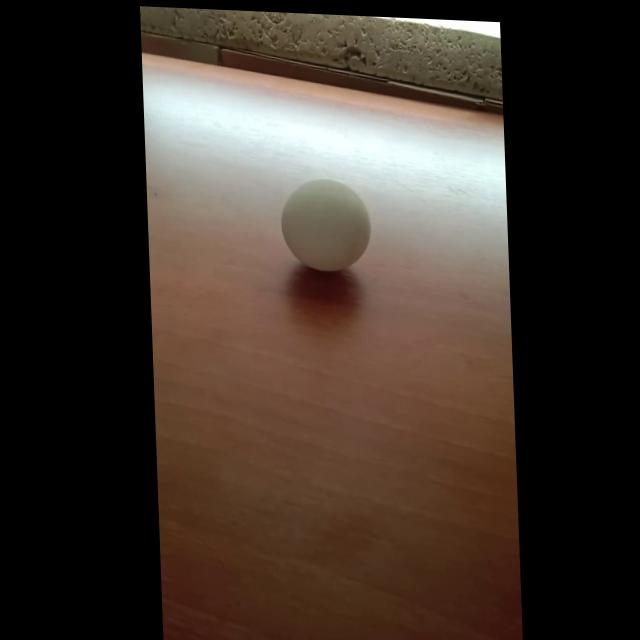white ball: (279, 176, 373, 274)
